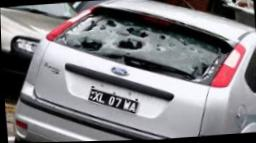Windshield: (49, 8, 229, 83)
